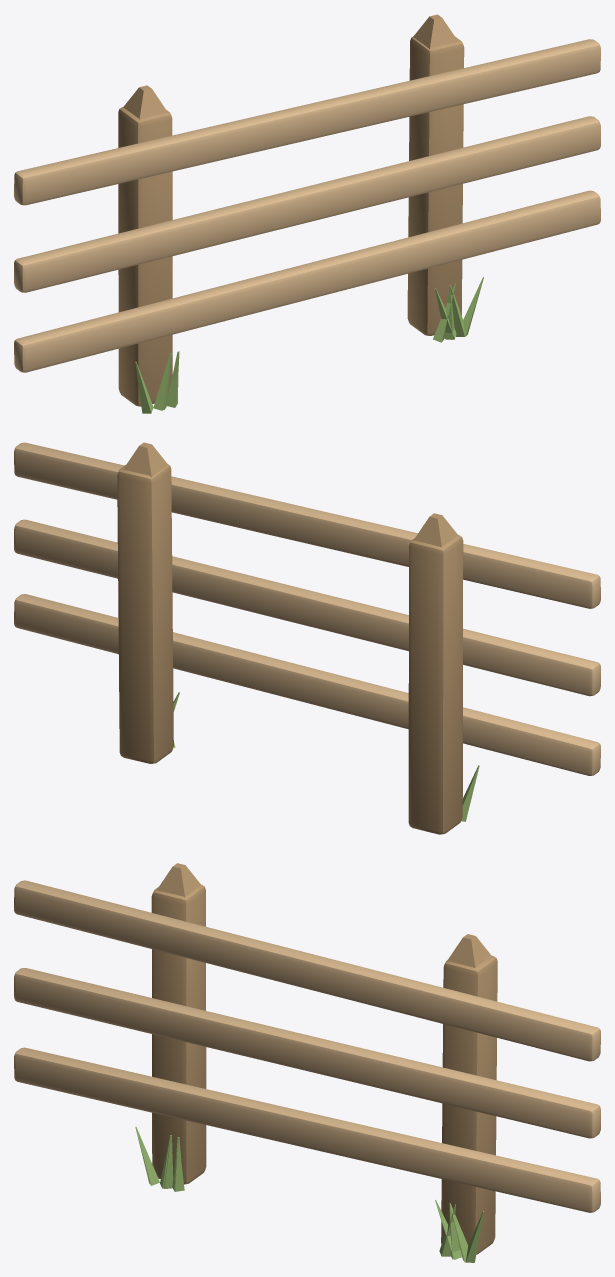
File: bg_fence.glb
3 renders of one model, top to bottom at view 1: azimuth 30°, elevation 25°; view 2: azimuth 150°, elevation 25°; view 3: azimuth 330°, elevation 25°, orthographic.
Visible parts, largest first — view 1: bg_fence; view 2: bg_fence; view 3: bg_fence.
Boxes of the visible parts, x1=… form: bg_fence: x1=14, y1=14, x2=600, y2=413; bg_fence: x1=14, y1=442, x2=600, y2=834; bg_fence: x1=14, y1=863, x2=600, y2=1262.
Bounding box in the file's own units: 2 × 1.03 × 0.195.
